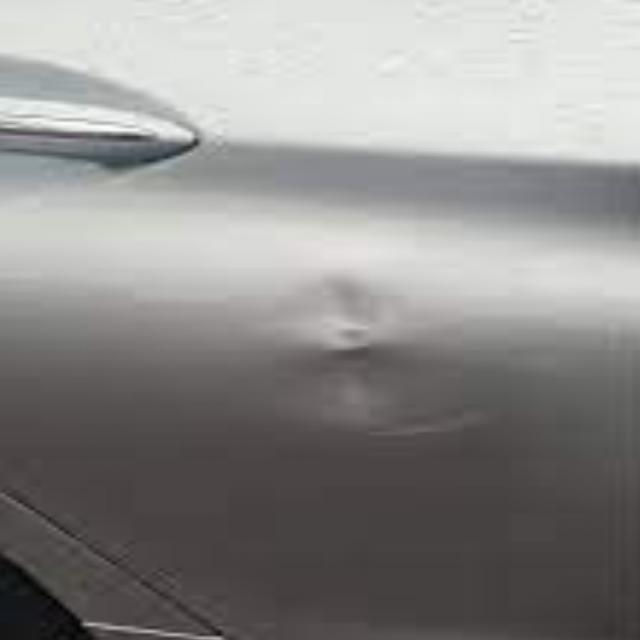dents: (286, 269, 511, 457)
